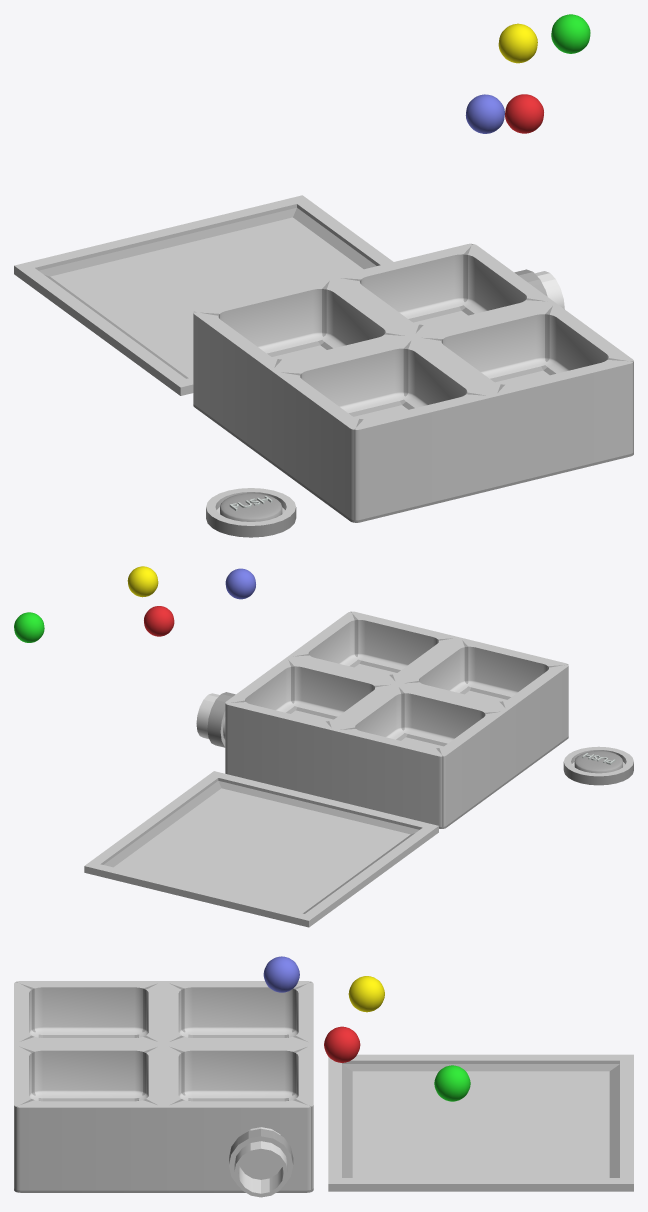
Rendered from propsSeriousgame.fbx.
3 views of the same model, one above another, from view 1: azimuth 30°, elevation 25°; view 2: azimuth 150°, elevation 25°; view 3: azimuth 270°, elevation 25° (orthographic). The views are drawn at different scales.
Visible parts, largest first — view 1: Obj_1, panel, Cylinder.001, Sphere_Green, Sphere_Yellow, Sphere_Blue, Sphere_Red; view 2: Obj_1, panel, Cylinder.001, Sphere_Red, Sphere_Yellow, Sphere_Green, Sphere_Blue; view 3: Obj_1, panel, Sphere_Blue, Sphere_Green, Sphere_Red, Sphere_Yellow.
Boxes of the visible parts, x1,y1,x2,y2 form: Obj_1: [193, 243, 633, 522]; panel: [14, 195, 393, 395]; Cylinder.001: [206, 488, 296, 537]; Sphere_Green: [551, 14, 590, 53]; Sphere_Yellow: [498, 23, 537, 63]; Sphere_Blue: [465, 94, 504, 133]; Sphere_Red: [505, 94, 543, 133]; Obj_1: [196, 611, 568, 828]; panel: [84, 771, 438, 927]; Cylinder.001: [563, 746, 633, 785]; Sphere_Red: [144, 606, 174, 636]; Sphere_Yellow: [127, 566, 158, 597]; Sphere_Green: [14, 612, 44, 642]; Sphere_Blue: [225, 568, 255, 599]; Obj_1: [14, 981, 313, 1197]; panel: [328, 1054, 633, 1191]; Sphere_Blue: [263, 956, 299, 992]; Sphere_Green: [434, 1065, 470, 1101]; Sphere_Red: [324, 1026, 360, 1062]; Sphere_Yellow: [348, 976, 384, 1012].
Size of the model in its own units: 411 by 184 by 414.
